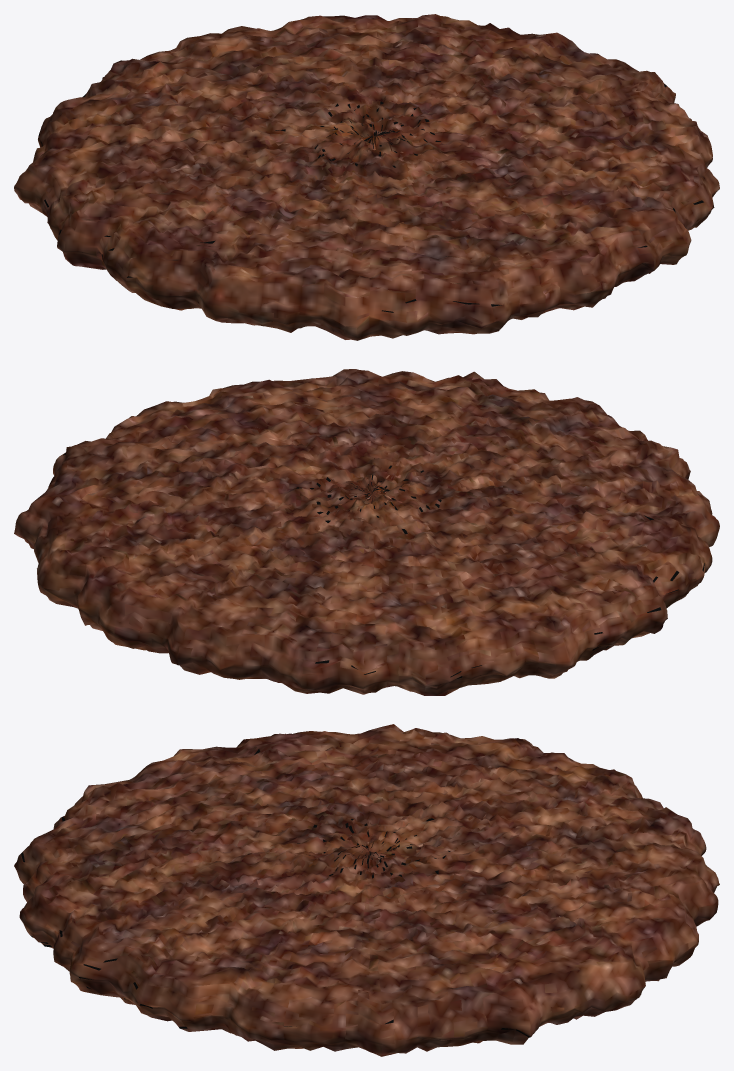
The model's file is patty.glb.
The picture shows the model from 3 angles, top to bottom: view 1: azimuth 30°, elevation 25°; view 2: azimuth 150°, elevation 25°; view 3: azimuth 270°, elevation 25°; orthographic projection.
Parts seen in each view (by area): view 1: Griddled beef patty; view 2: Griddled beef patty; view 3: Griddled beef patty.
Part boxes in pixels (bbox=[...]): Griddled beef patty: bbox=[14, 14, 719, 340]; Griddled beef patty: bbox=[14, 369, 719, 695]; Griddled beef patty: bbox=[14, 724, 719, 1056].
Size of the model in its own units: 2.44 by 0.2857 by 2.42.
Materials: 1 (1 with a texture image).
